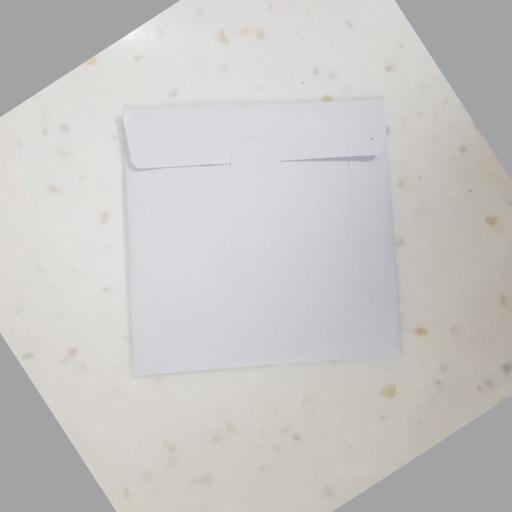Paper_2: (111, 92, 413, 383)
